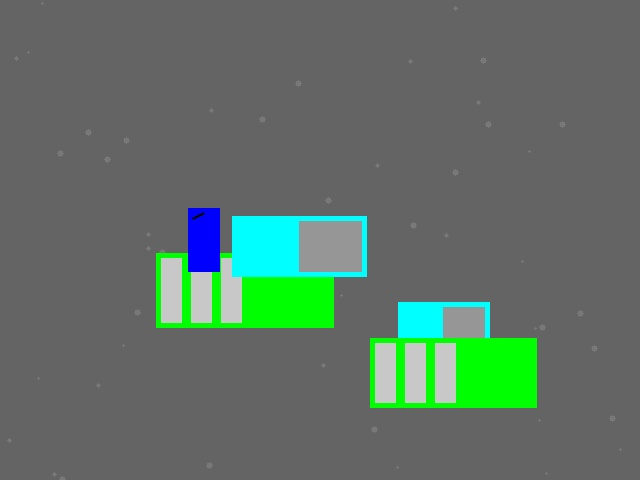bus: (156, 253, 333, 327), (370, 338, 536, 407)
motorcycle: (188, 208, 219, 271)
truck: (232, 216, 366, 276), (398, 302, 489, 343)
